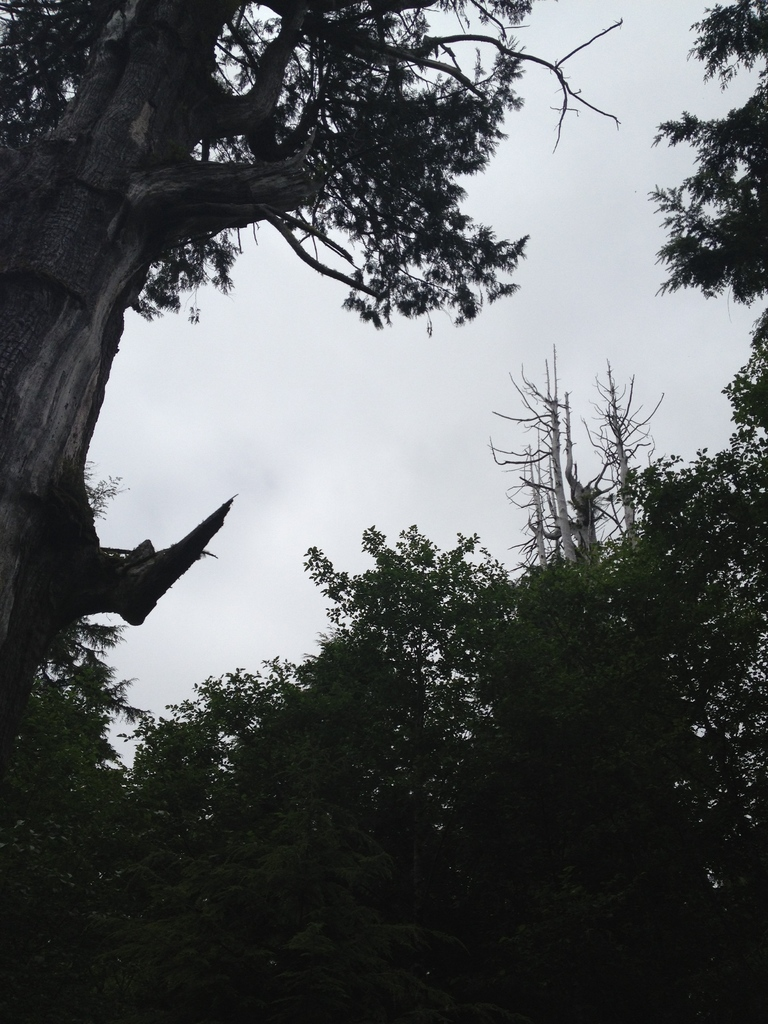Tree: (0, 344, 767, 1022), (0, 0, 616, 730), (645, 0, 767, 427)
